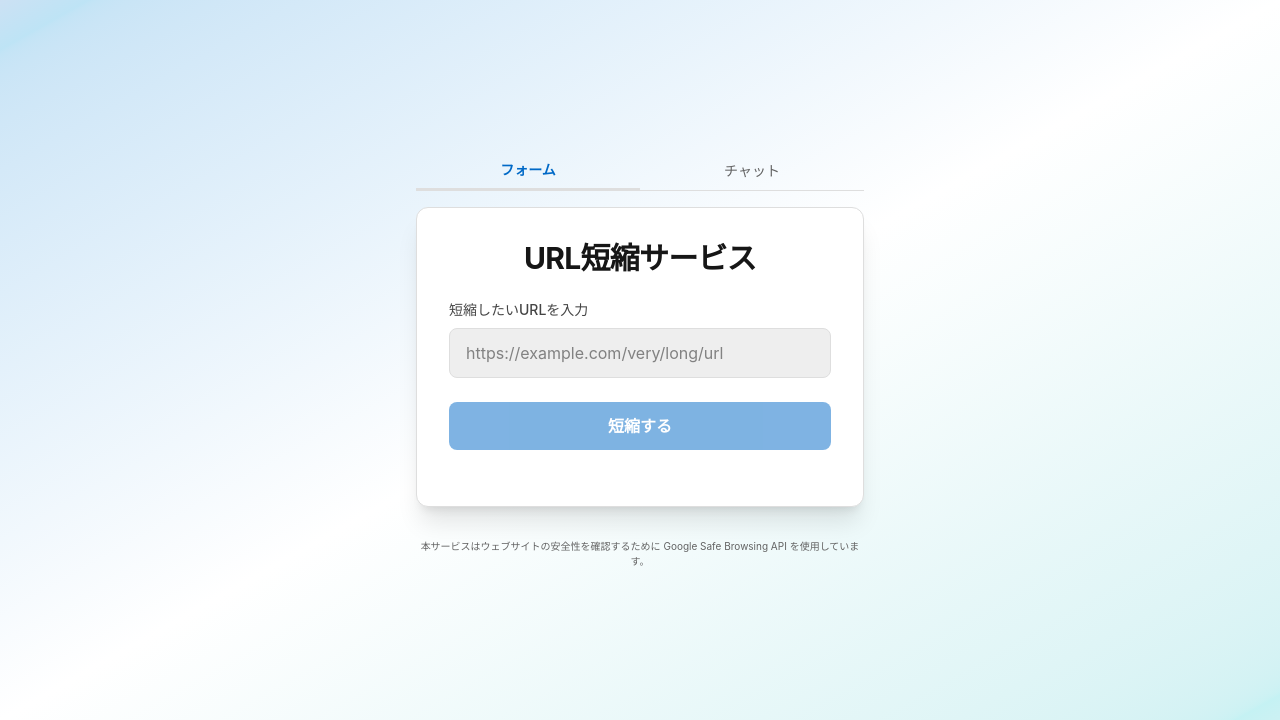
Scenario: Home Page › handles API errors
In the field labelled "短縮したいURLを入力": x=640, y=352 [449,328,831,378], type "https://example.com/error"
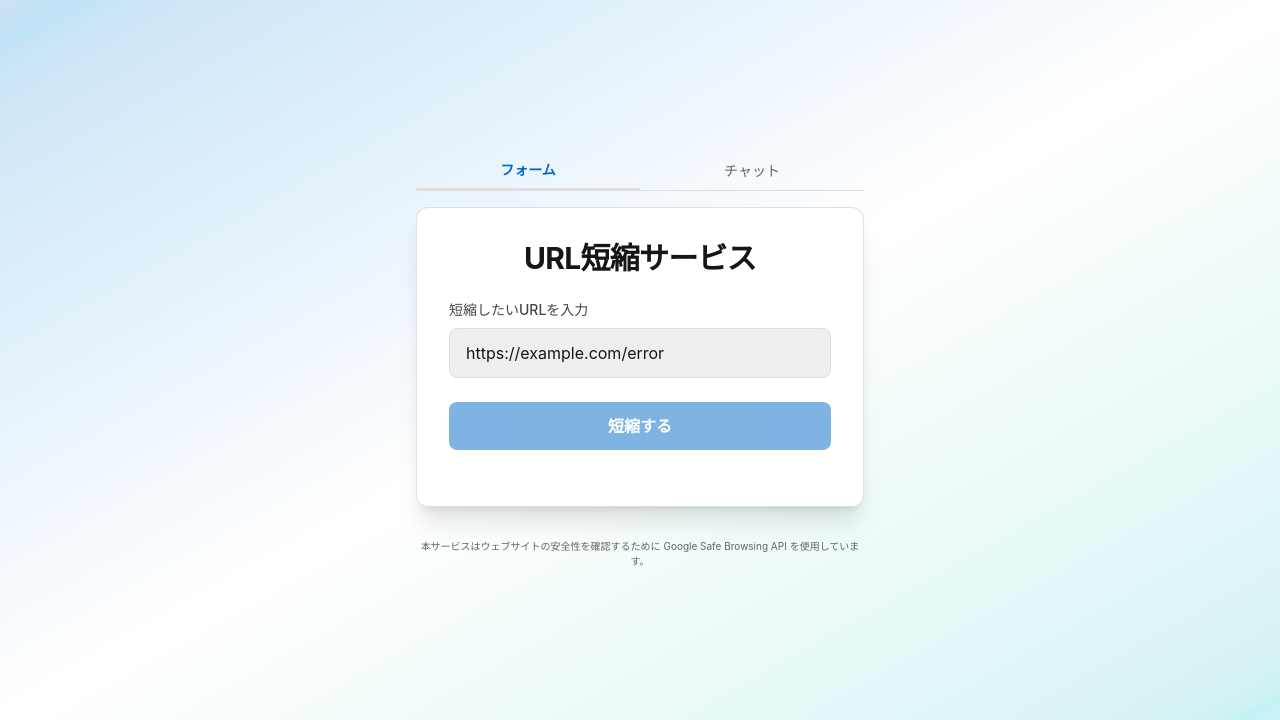
Submit the form labelled "短縮したいURLを入力", box [449,300,831,474]
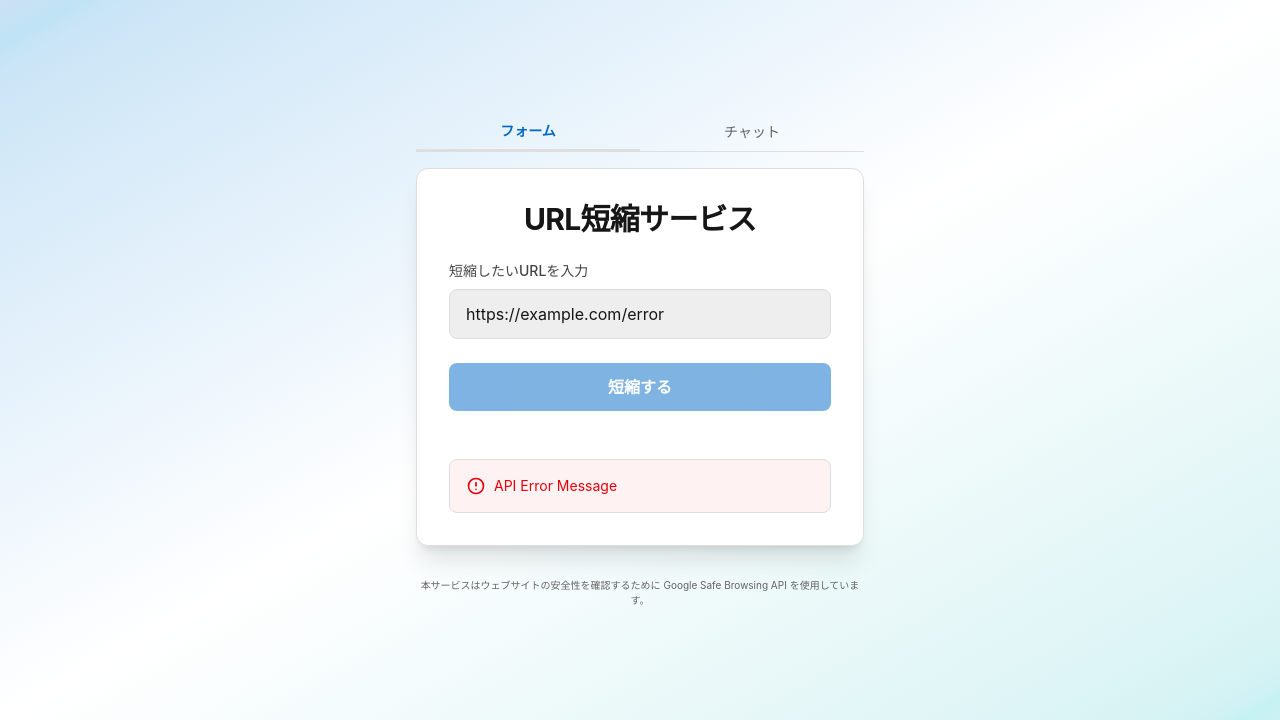
Expected: the text "API Error Message" is shown, [494,476,617,496]
